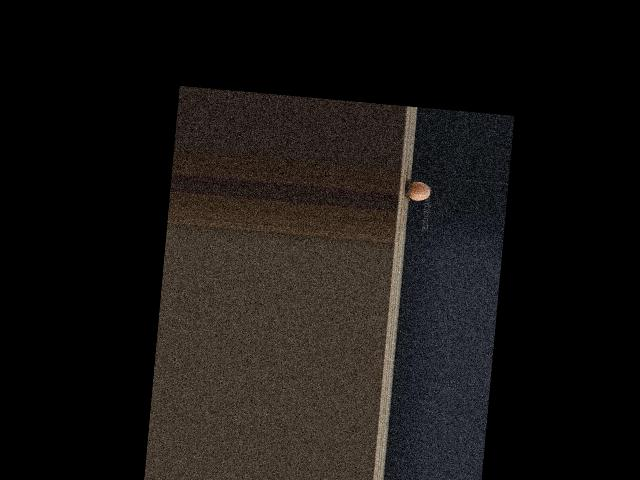egg: (408, 180, 431, 201)
